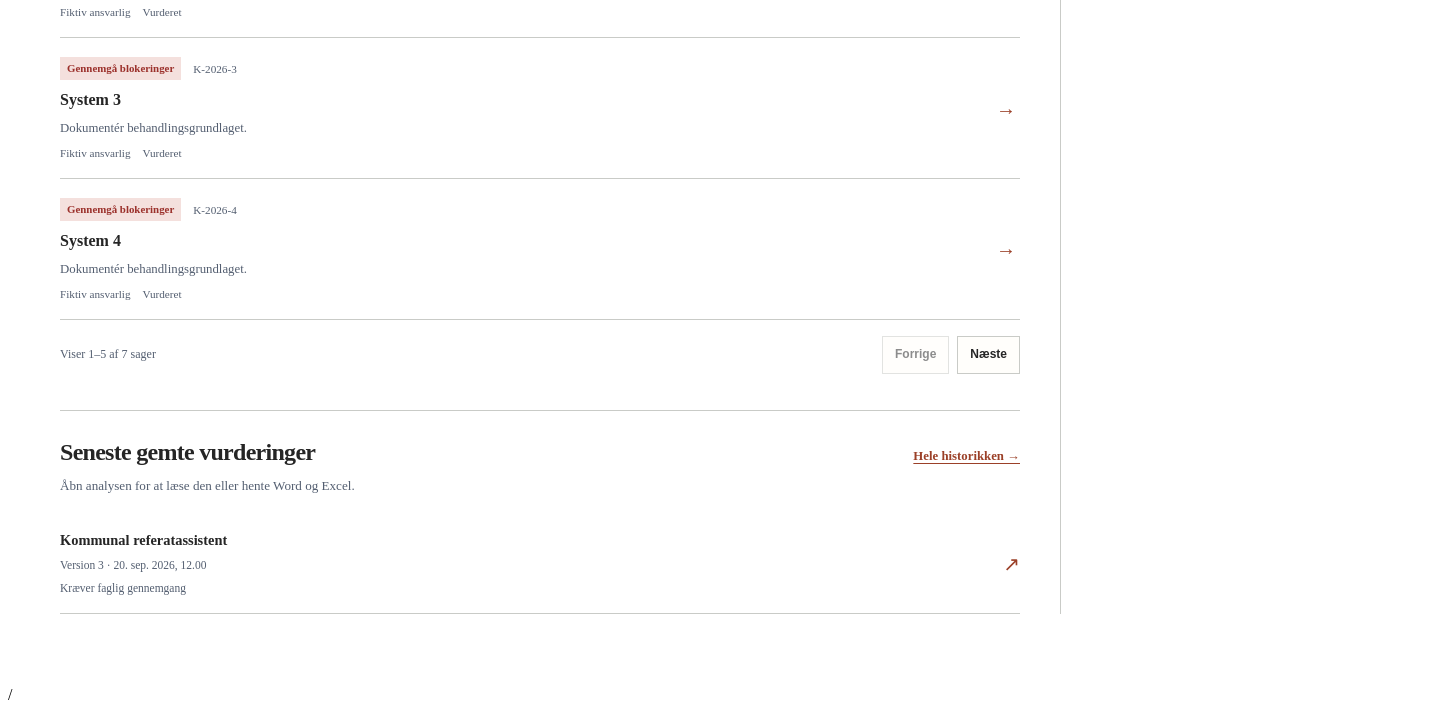
Test case: pagination, search and clear preserve addressable case actions
(page scrolled)
Click the button "Næste" at point(989, 355), box [957,336,1020,374]
(page scrolled)
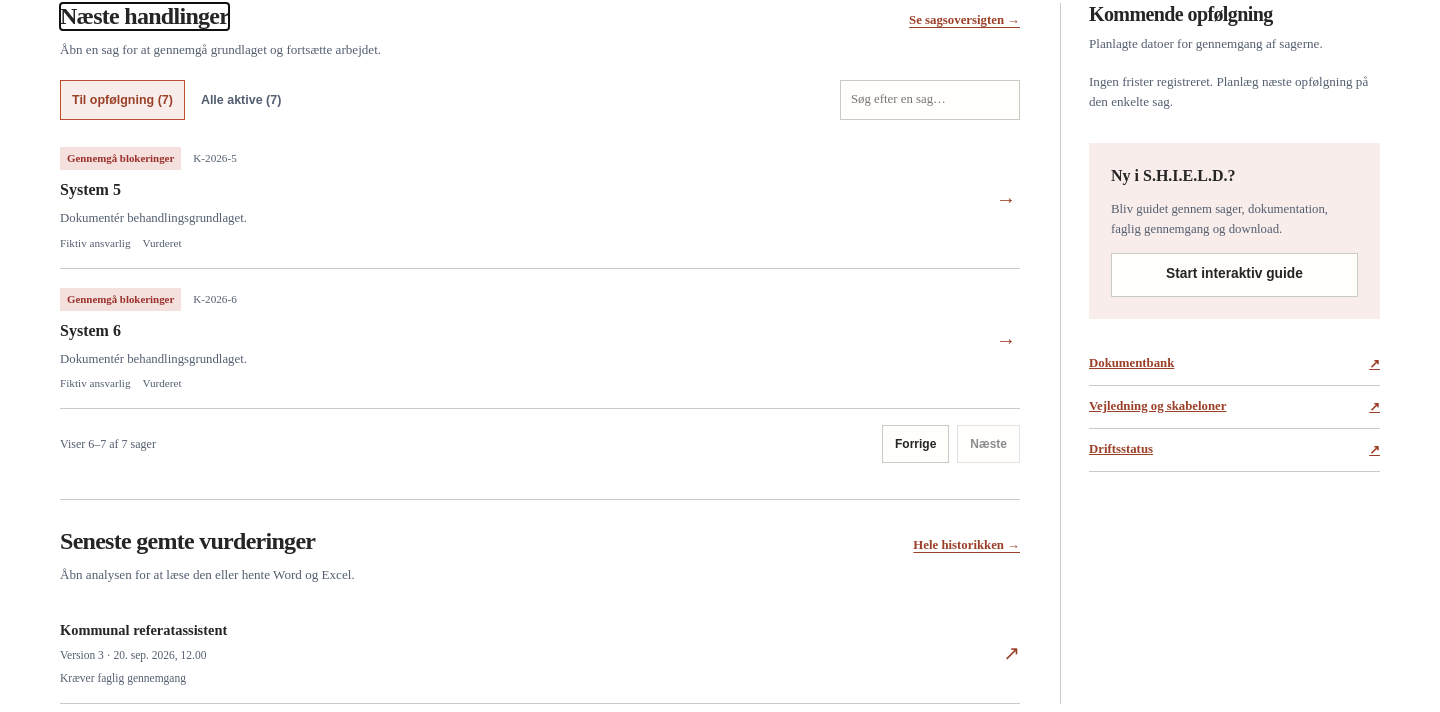
Type "System 2" into the search field named "Søg i arbejdslisten" at point(930, 100), box [840,80,1020,120]
(page scrolled)
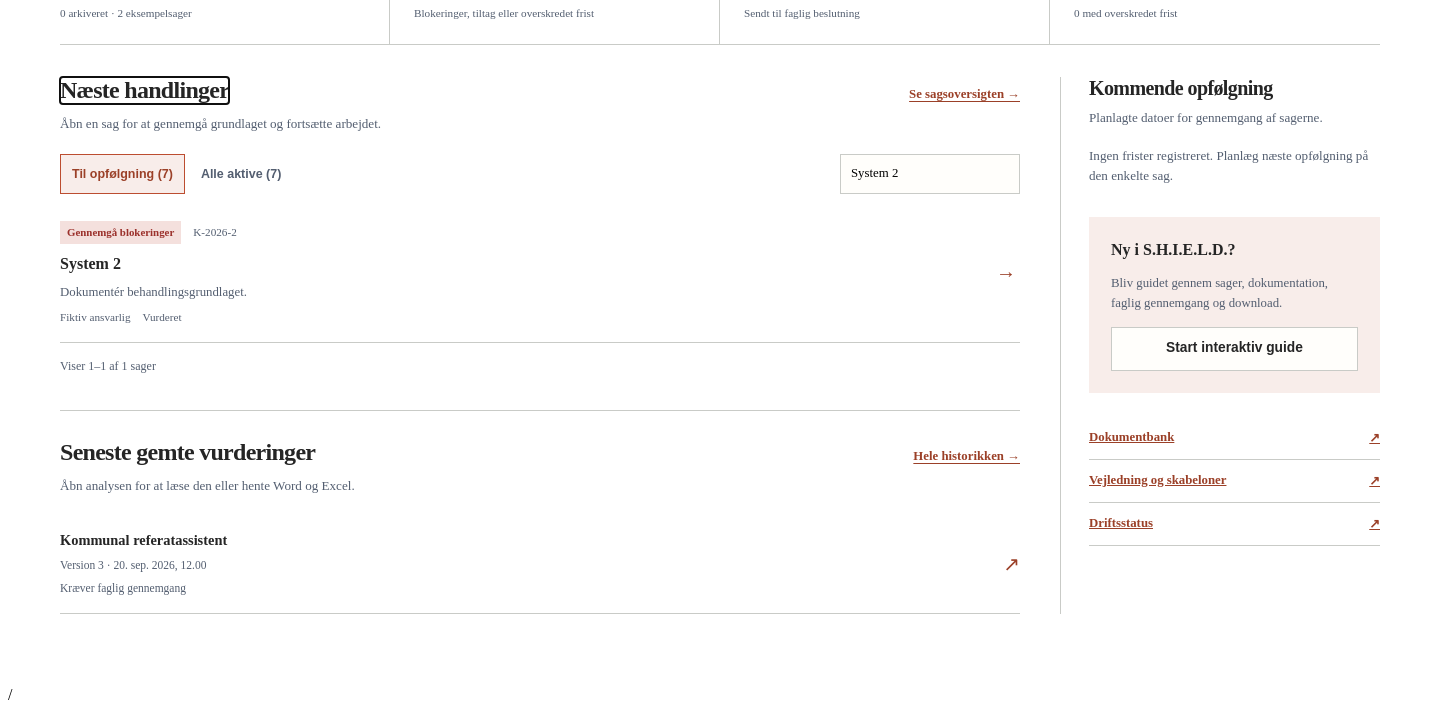
Replace the text in the search field with "findes ikke" at point(930, 174), box [840,154,1020,194]
(page scrolled)
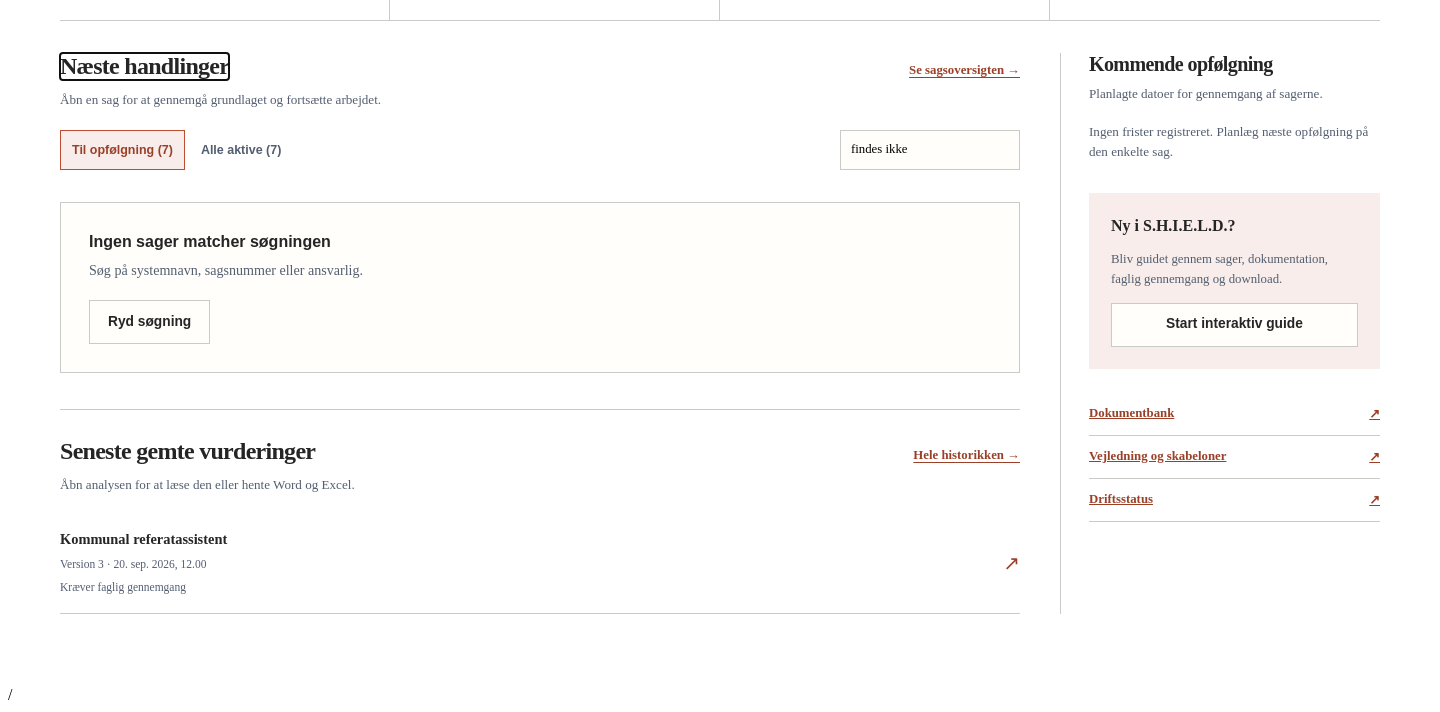
Now the text "Ingen sager matcher søgningen" is shown, box [89,233,331,250]
Click the button "Ryd søgning" at point(150, 322), box [89,300,210,344]
(page scrolled)
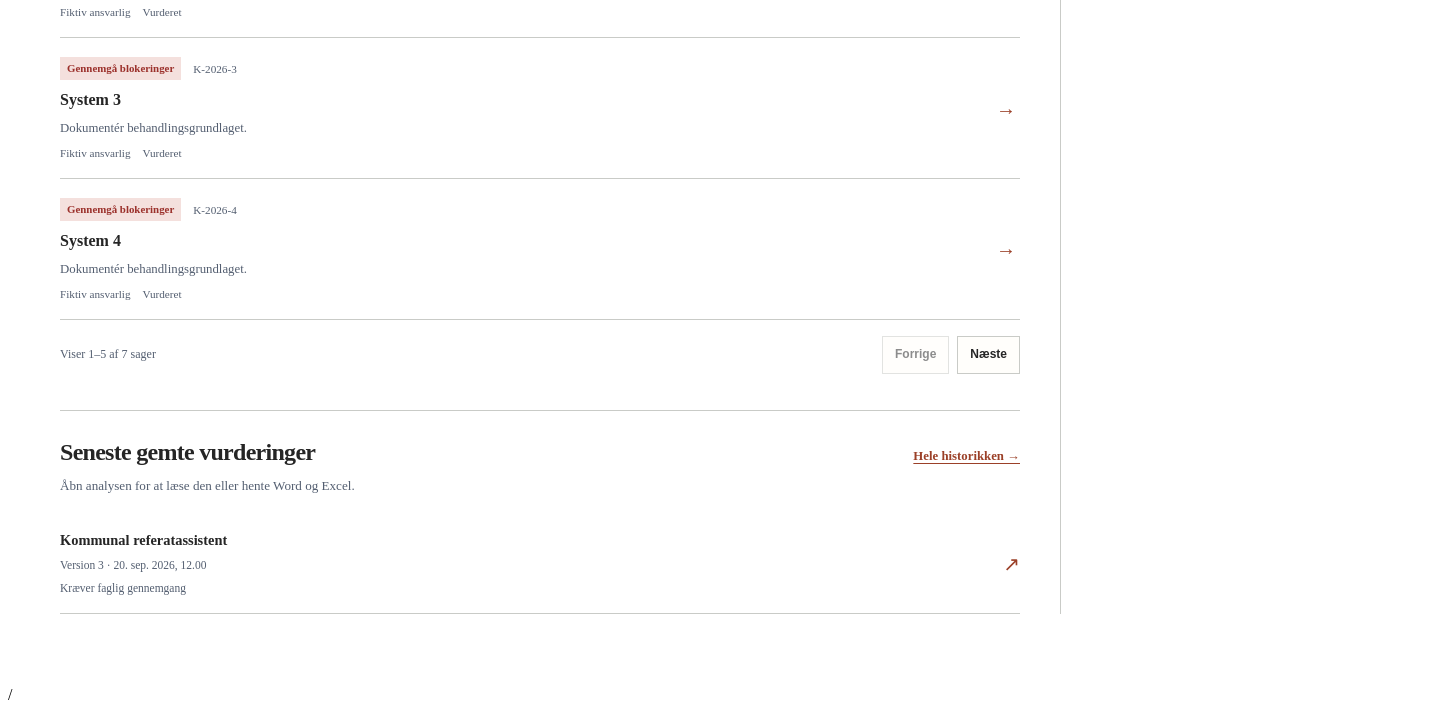
Now the text "Viser 1–5 af 7 sager" is shown, box [60,347,156,362]
